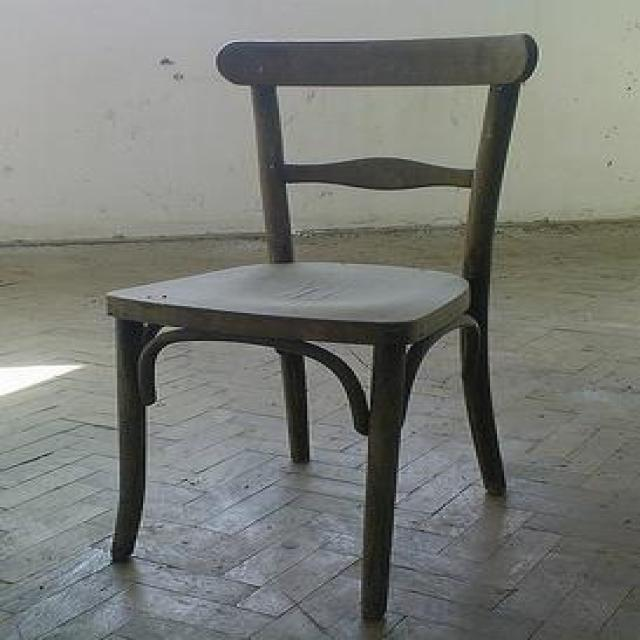chair: (103, 31, 539, 619)
